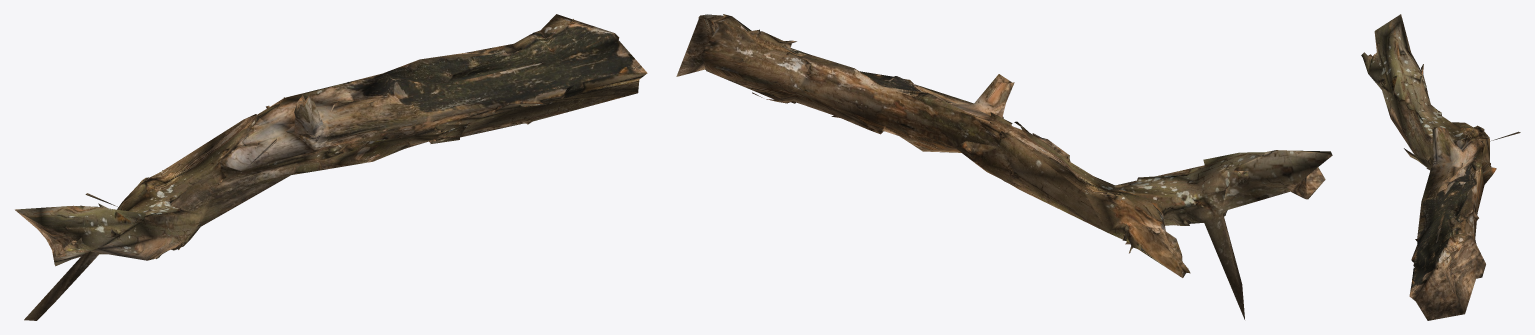
Rendered from ph_trunk.glb.
3 views of the same model, side by side, from view 1: azimuth 30°, elevation 25°; view 2: azimuth 150°, elevation 25°; view 3: azimuth 270°, elevation 25° (orthographic). The views are drawn at different scales.
Parts seen in each view (by area): view 1: dead_tree_trunk_02; view 2: dead_tree_trunk_02; view 3: dead_tree_trunk_02.
Boxes of the visible parts, box(x1,y1,x2,y2) form: dead_tree_trunk_02: box(15, 14, 647, 320); dead_tree_trunk_02: box(676, 14, 1332, 319); dead_tree_trunk_02: box(1361, 14, 1520, 320).
Bounding box in the file's own units: 3.97 × 1.04 × 1.02.
1 material, 1 textured.
